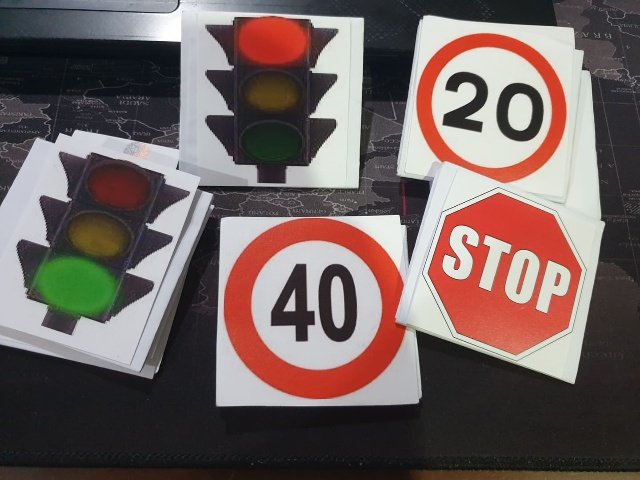Green: (30, 149, 174, 348)
Limit 20: (419, 25, 572, 193)
Limit 40: (225, 224, 413, 396)
Red: (194, 13, 347, 191)
Stop: (430, 187, 584, 359)
